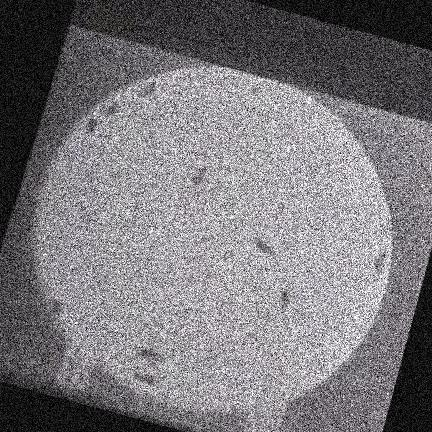fly: (252, 237, 274, 255), (373, 248, 387, 272), (133, 372, 159, 384), (48, 295, 64, 314), (137, 80, 155, 96), (136, 347, 162, 358), (191, 166, 206, 184), (279, 286, 290, 310), (84, 117, 98, 133), (102, 101, 117, 115)
